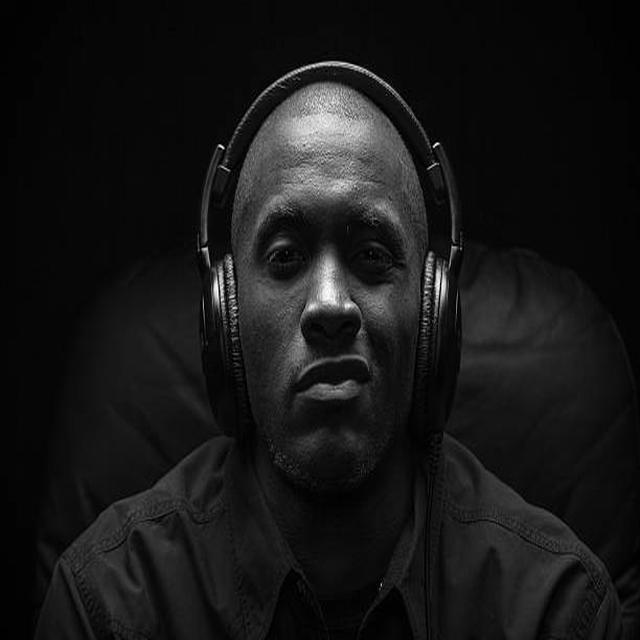Disgust: (230, 118, 423, 490)
